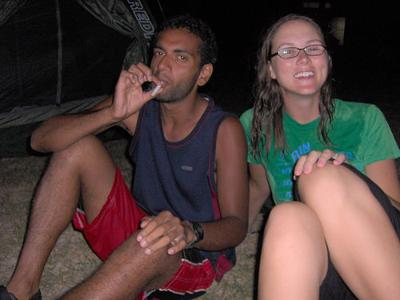person: (4, 17, 250, 300)
